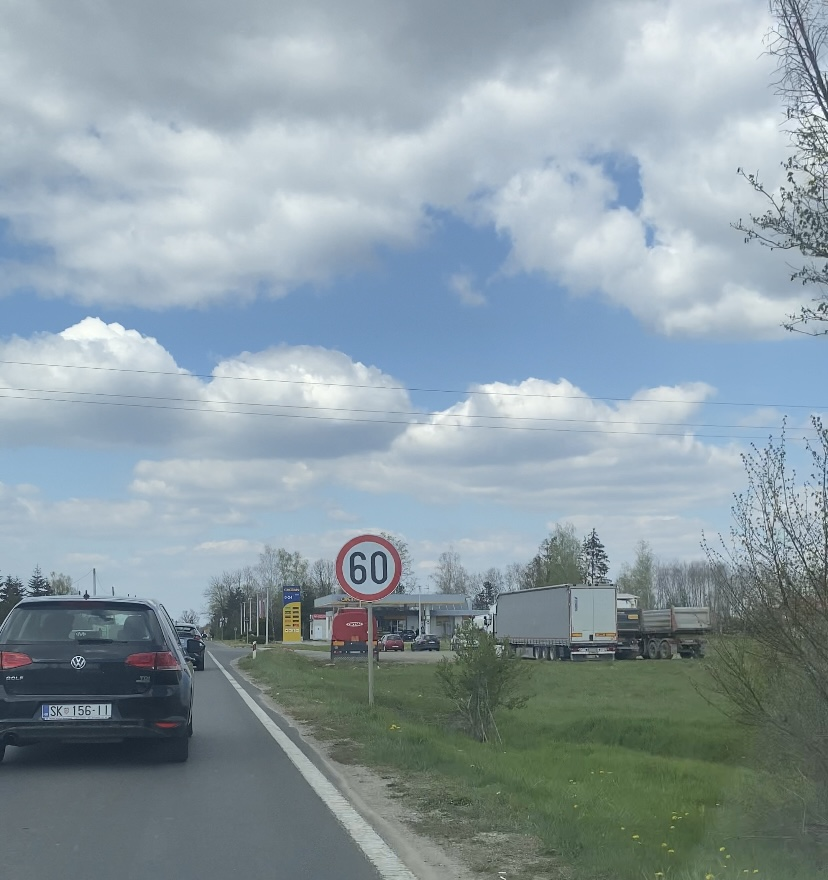Ograničenje brzine 60: (335, 534, 403, 602)
